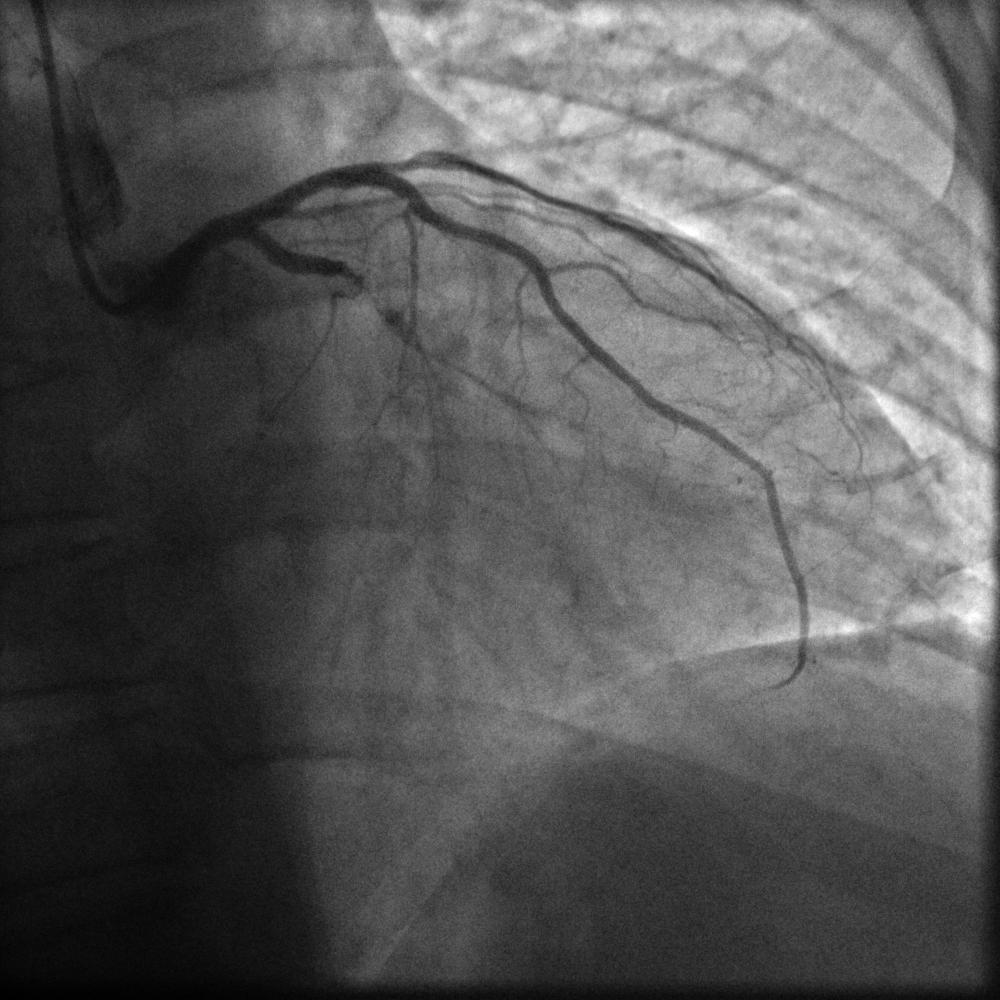Stenosis: (338, 259, 391, 315)
